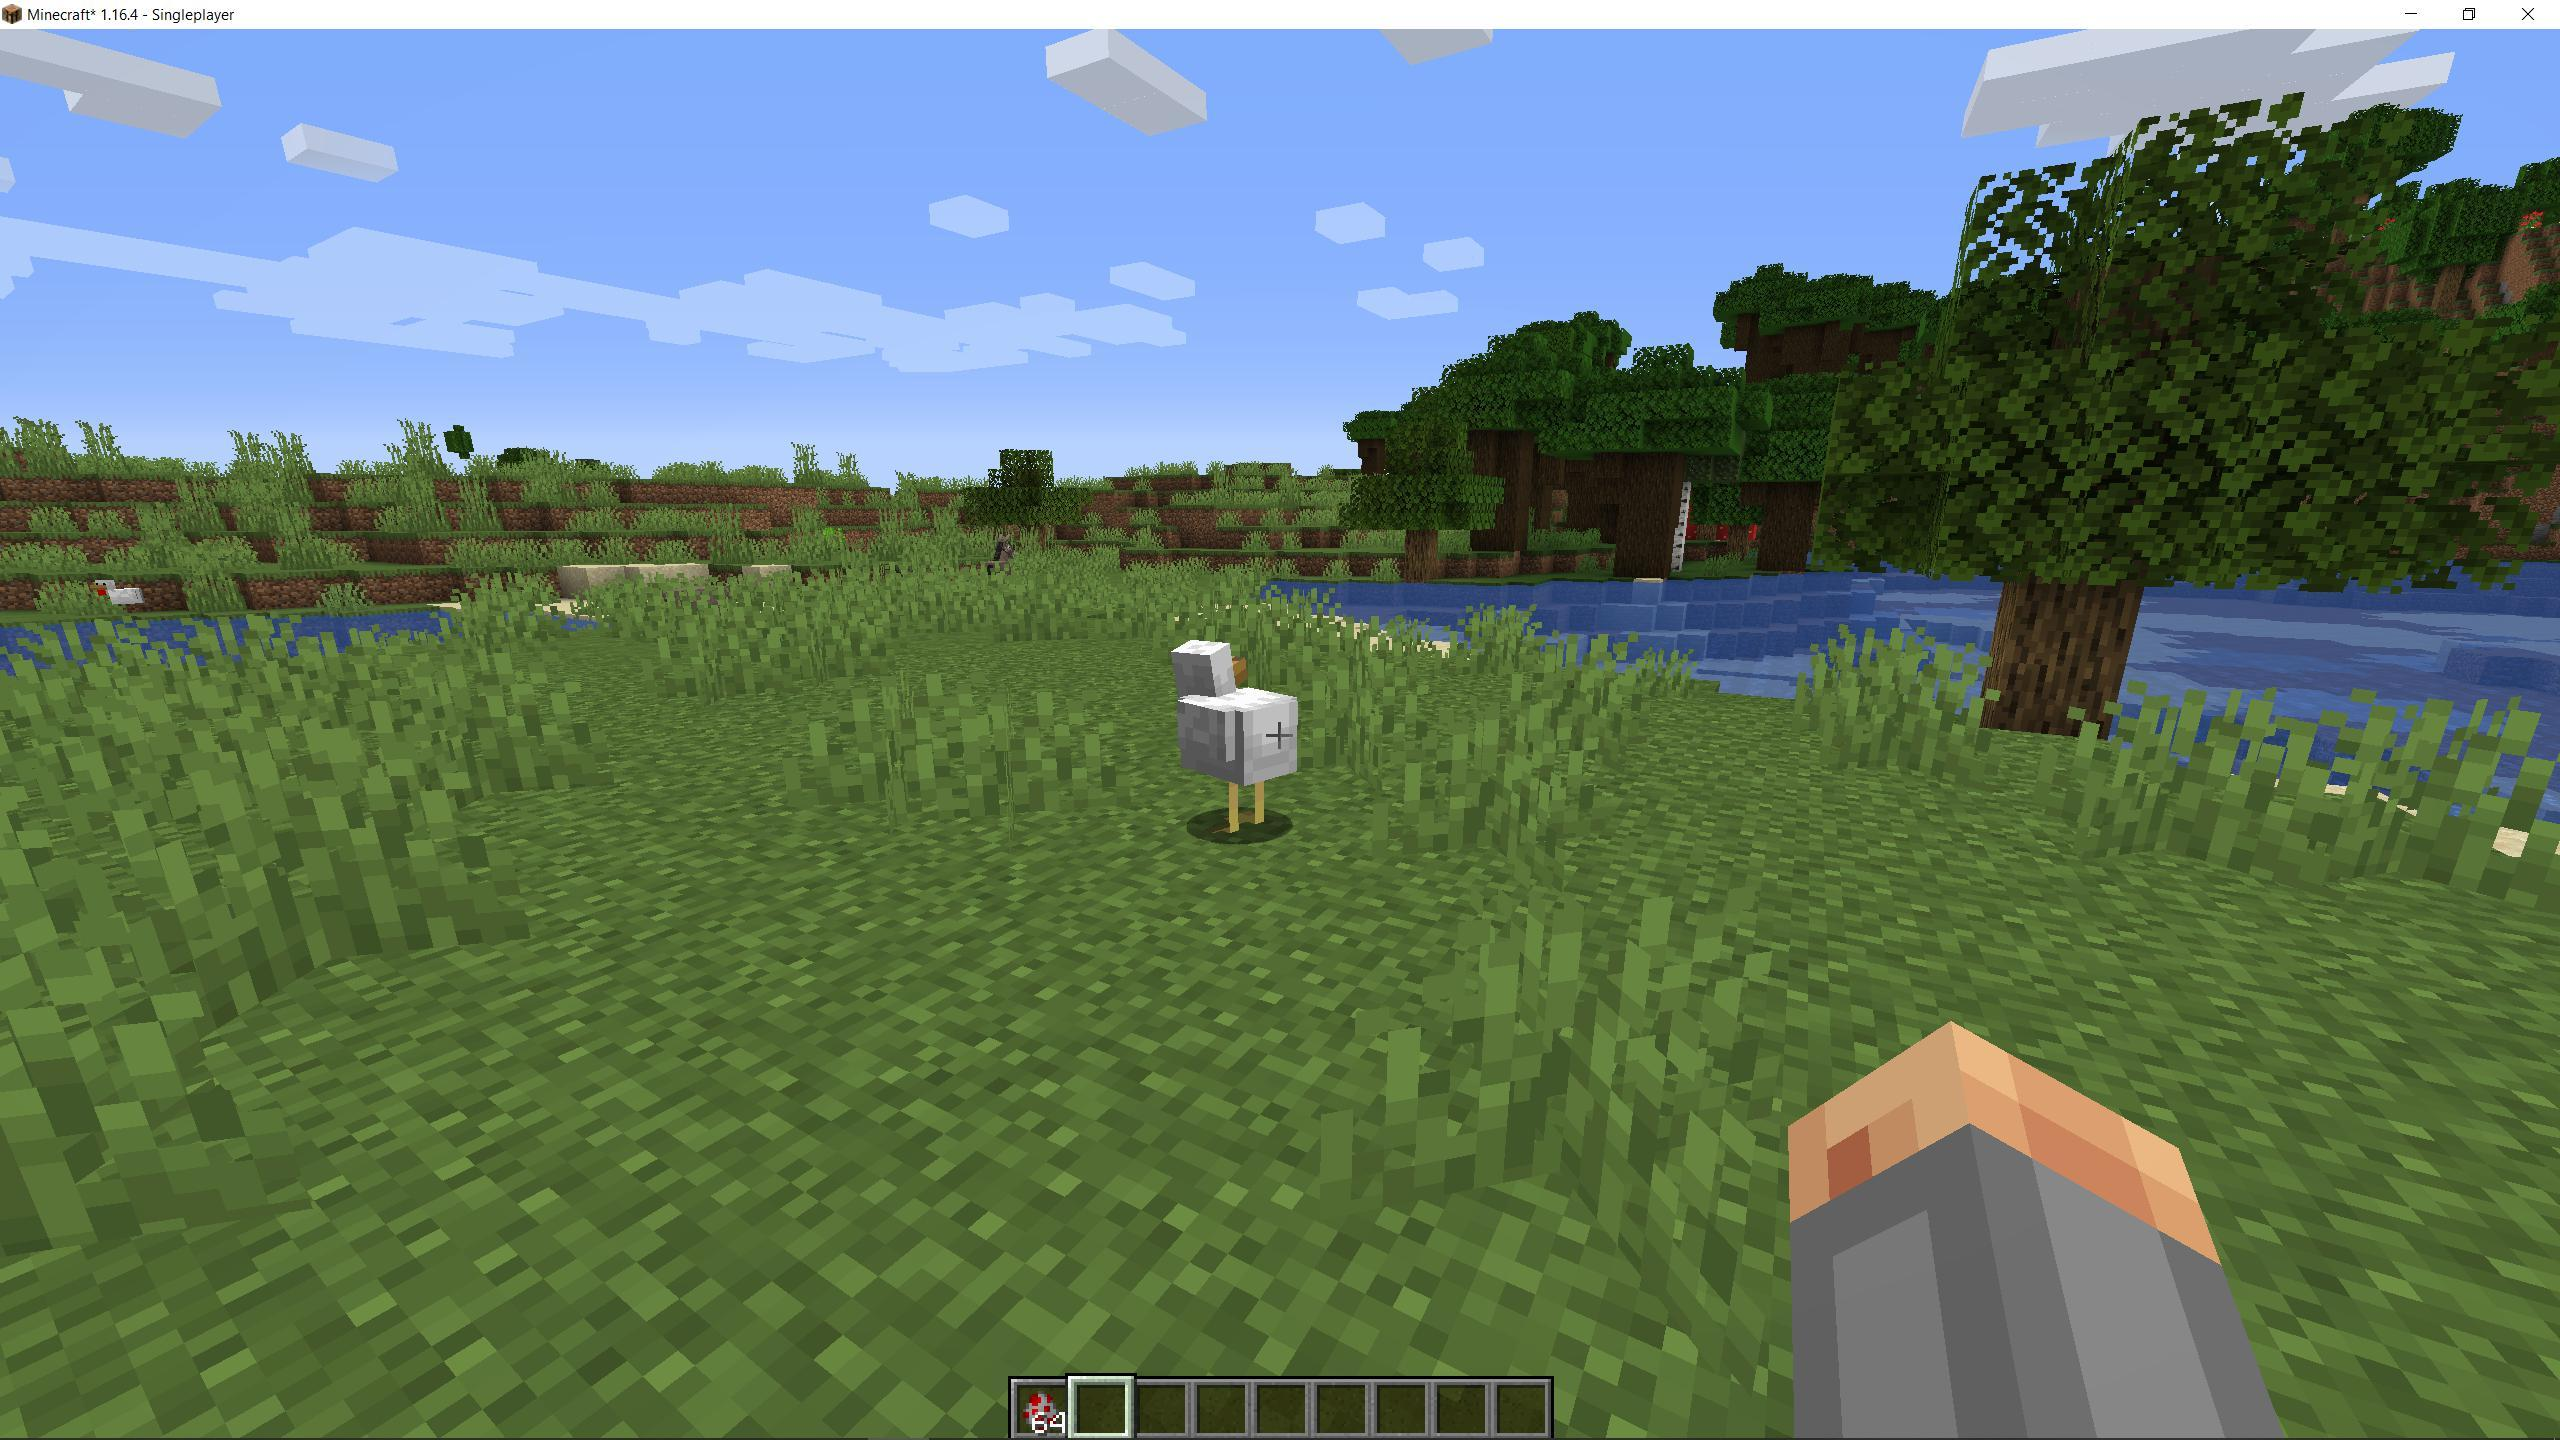chicken: (1166, 635, 1305, 846), (81, 564, 151, 624)
